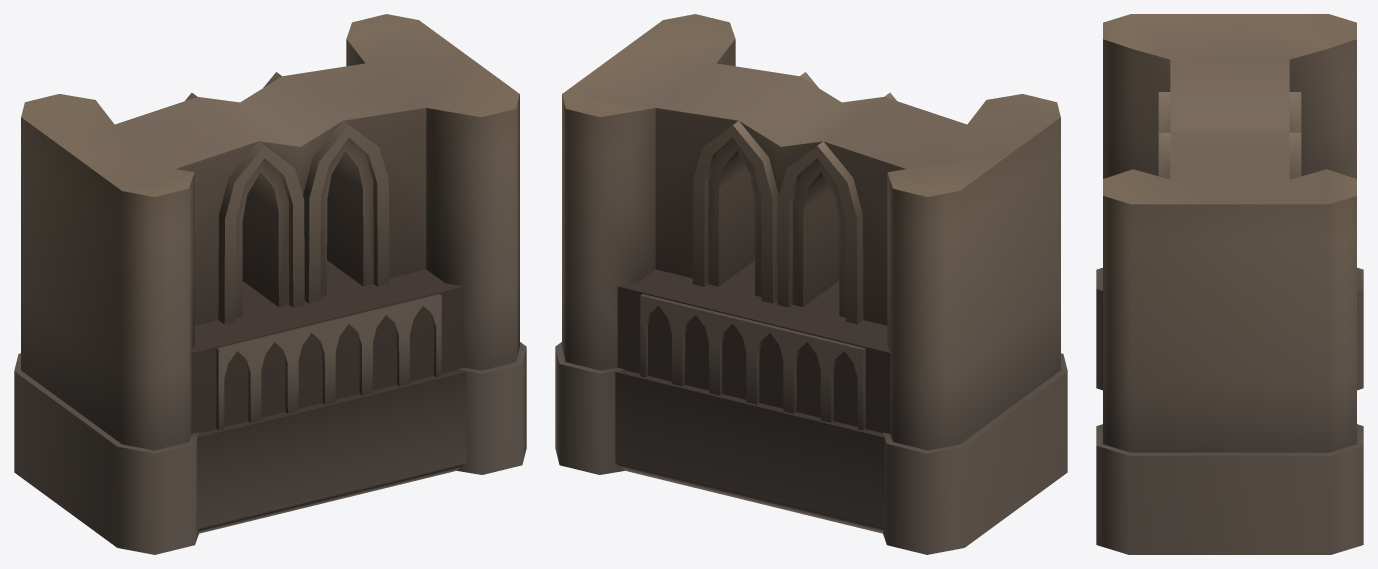
The model's file is buildings-ruins-cathedralruins_v8.glb.
3 views of the same model, side by side, from view 1: azimuth 30°, elevation 25°; view 2: azimuth 150°, elevation 25°; view 3: azimuth 270°, elevation 25° (orthographic).
Visible parts, largest first — view 1: CathedralRuins_v8; view 2: CathedralRuins_v8; view 3: CathedralRuins_v8.
Part boxes in pixels (left/top/right/bottom): CathedralRuins_v8: left=14, top=14, right=526, bottom=554; CathedralRuins_v8: left=555, top=14, right=1067, bottom=554; CathedralRuins_v8: left=1096, top=14, right=1363, bottom=554.
Size of the model in its own units: 9.46 by 7.83 by 5.46.
